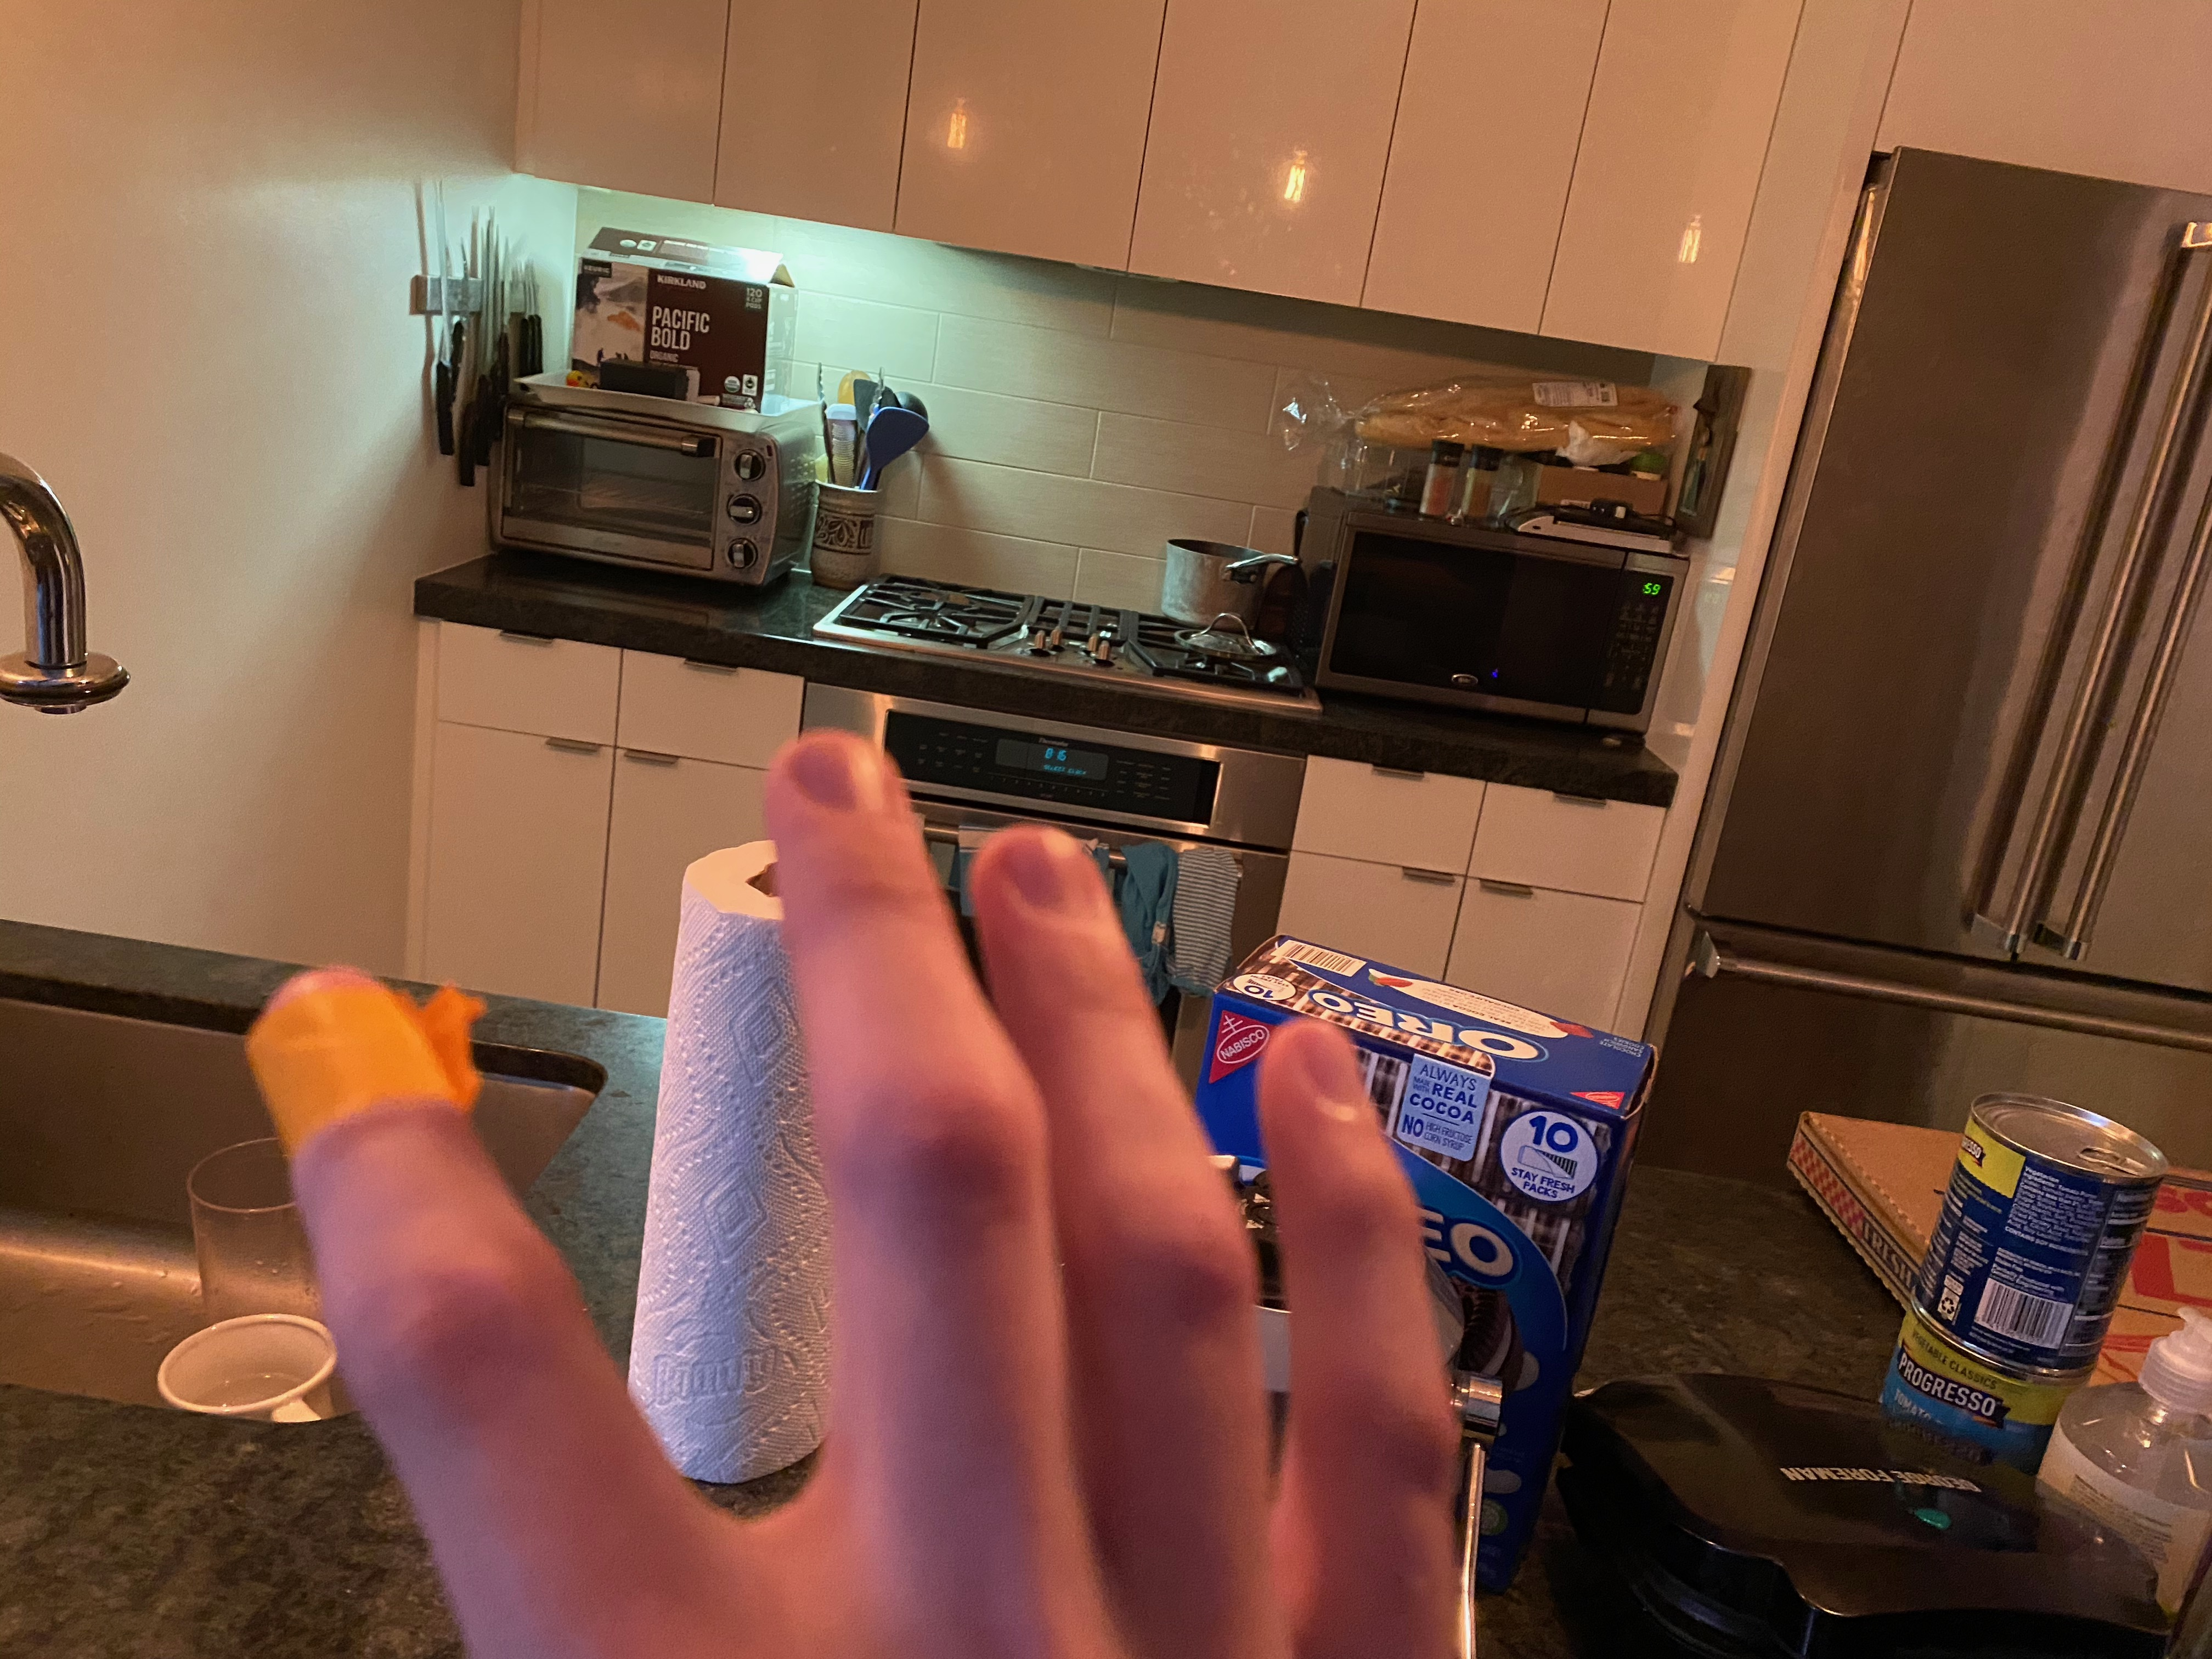fingertip: (246, 962, 516, 1194)
